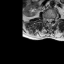CCS_normal: (49, 16, 51, 25)
LFS_normal: (52, 15, 54, 22)
LLS_normal: (51, 16, 52, 23)
RFS_normal: (45, 15, 47, 23)
RLS_normal: (47, 16, 49, 23)
